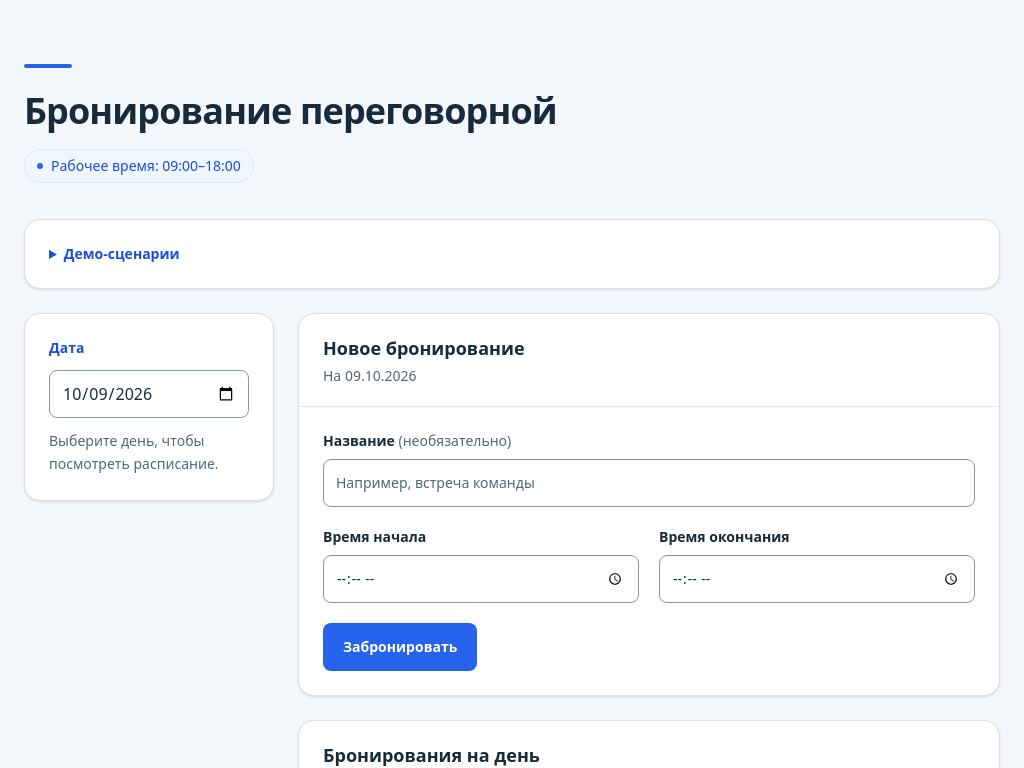
it: validates –11:00 on submit and associates the error with Время начала
Type "Встреча команды" into the field labelled "Название (необязательно)" at (649, 483), box x1=323 y1=459 x2=975 y2=507
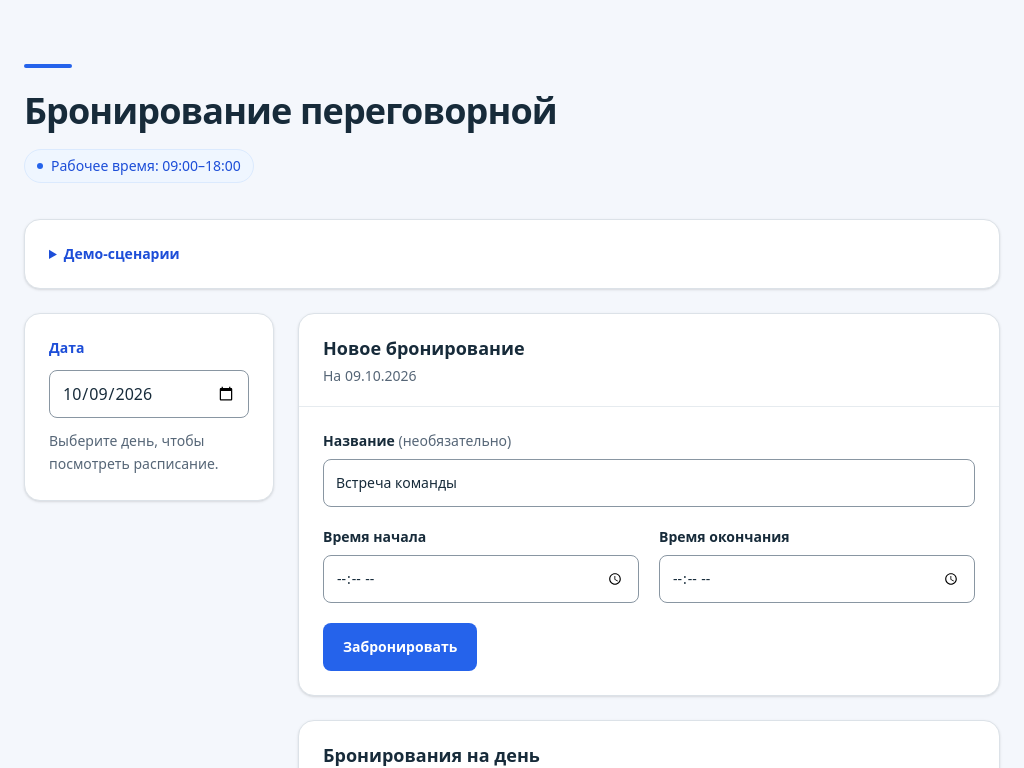
Type "11:00" into the time field labelled "Время окончания" at (817, 579), box x1=659 y1=555 x2=975 y2=603
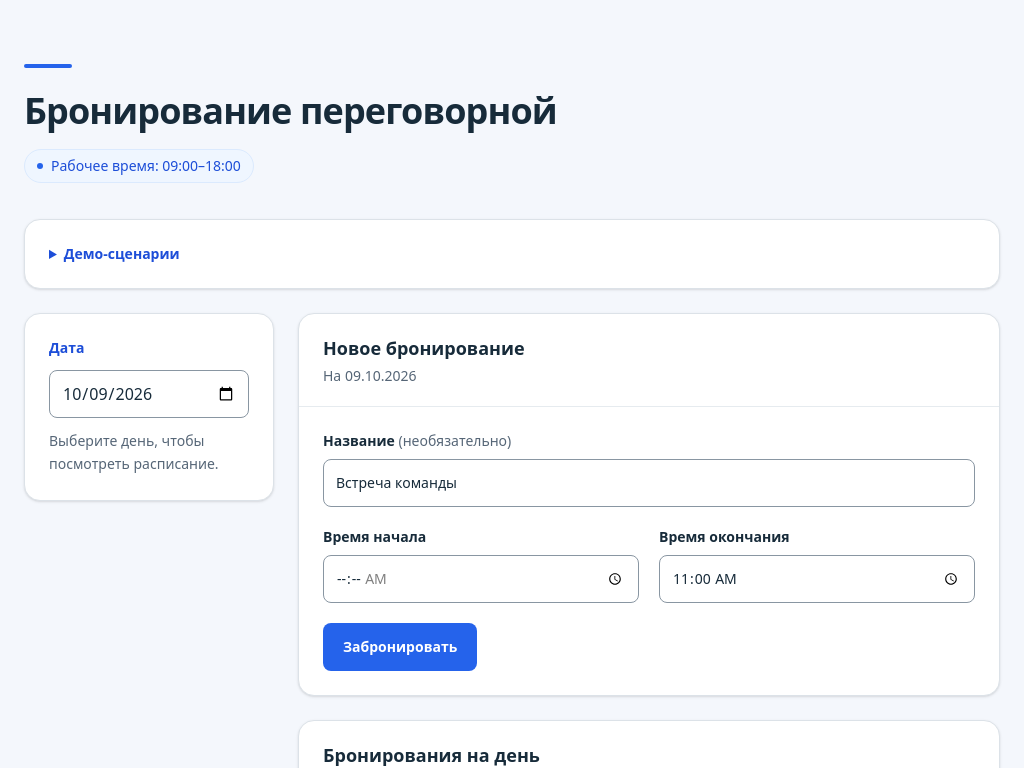
Click the button "Забронировать" at (400, 647), box x1=323 y1=623 x2=477 y2=671
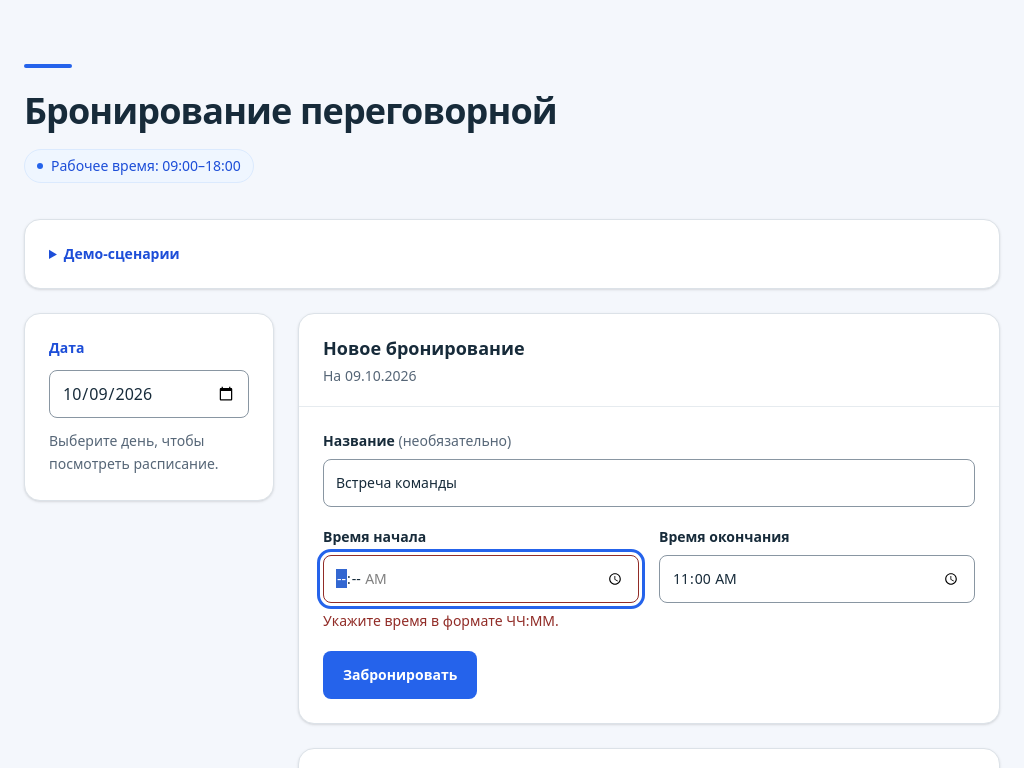
Check: the message reads "Укажите время в формате ЧЧ:ММ.", box x1=323 y1=611 x2=559 y2=630
